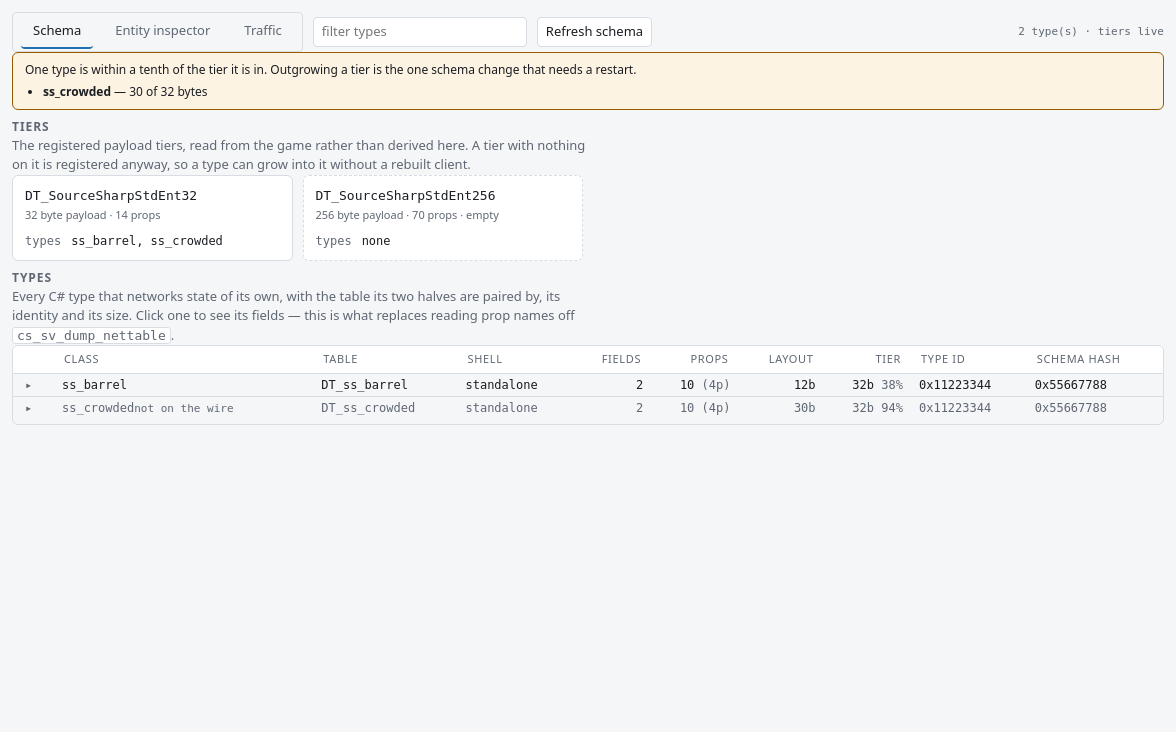
the schema pane › reads a type's fields only when its row is opened
The width and height of the screenshot is (1176, 732).
Expected: the text "ss_barrel" is shown, [54, 373, 313, 396]
Click the button "▸" in the row of "DT_ss_barrel".
click(29, 384)  # box [21, 376, 36, 394]
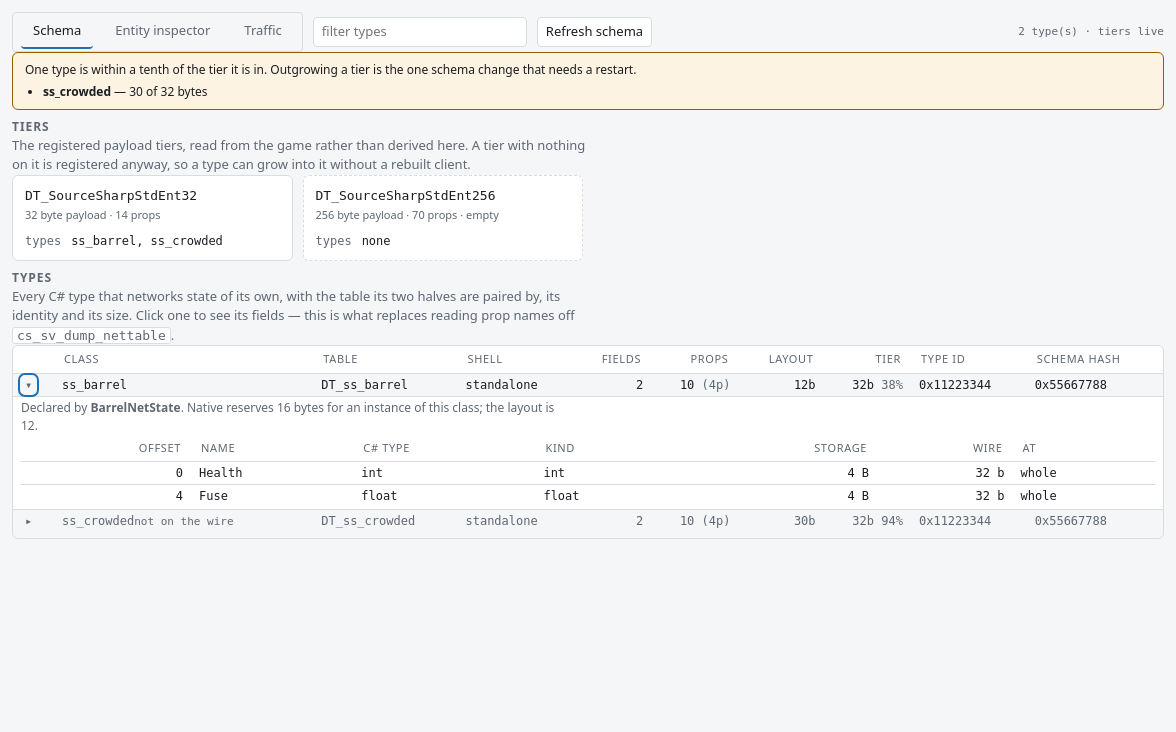
Expected: the text "Health" is shown, [191, 462, 353, 484]
